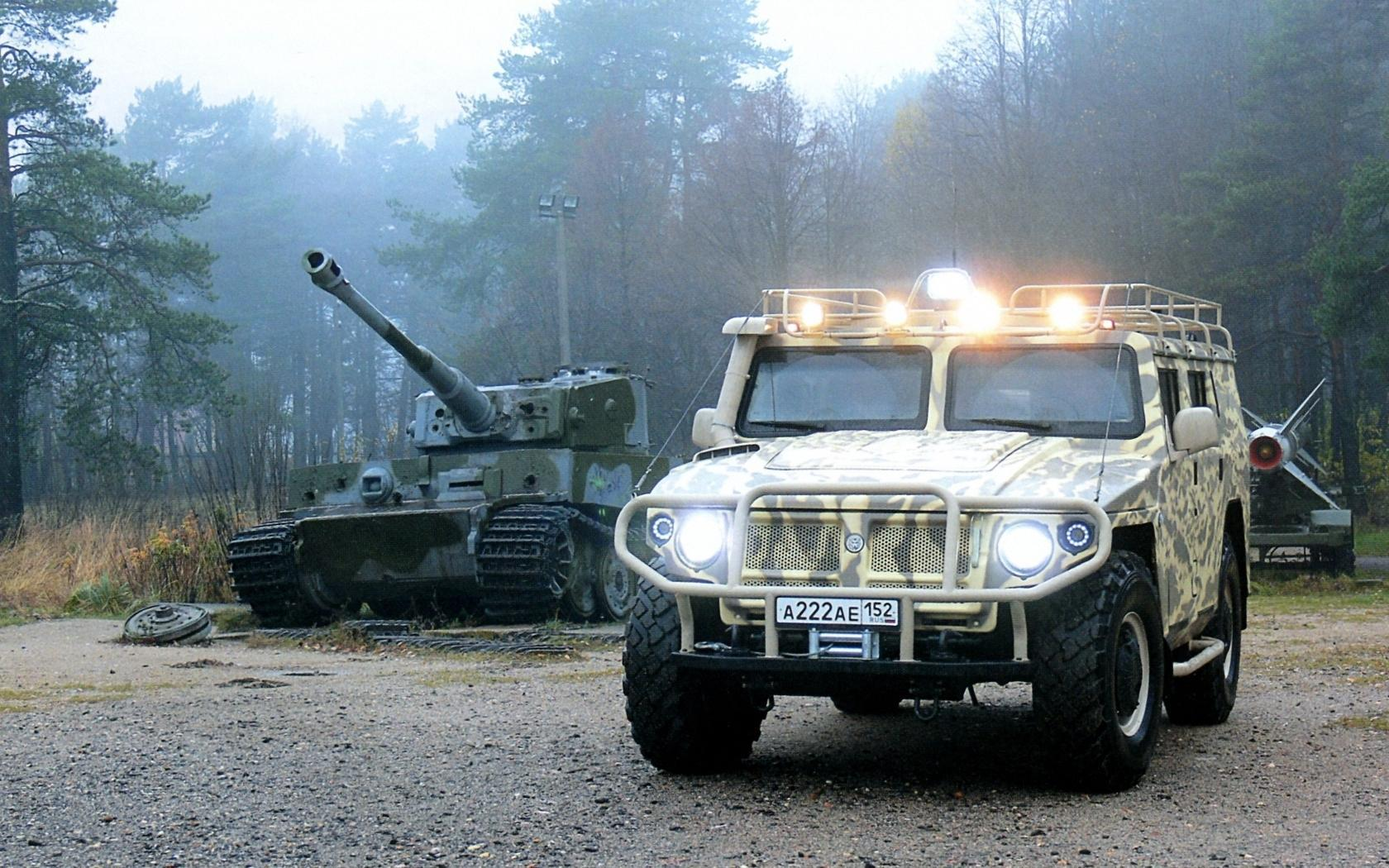armored_car: (613, 265, 1253, 795)
tank: (225, 248, 671, 627)
